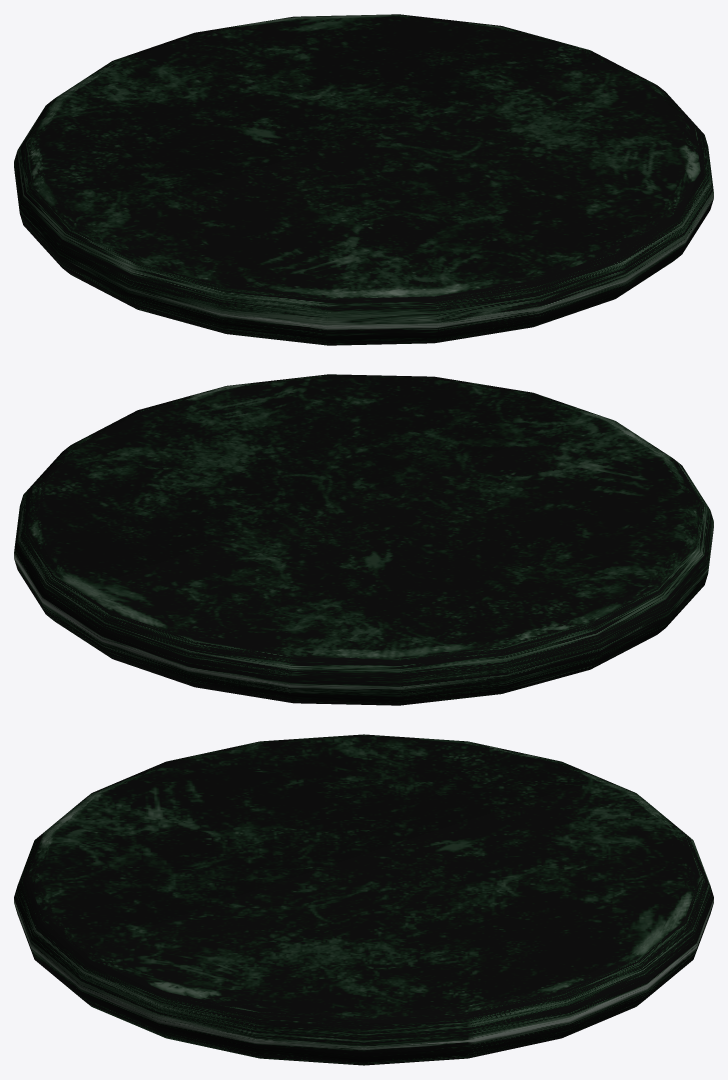
File: BoLiYuanKuai_Green.fbx
3 views of the same model, one above another, from view 1: azimuth 30°, elevation 25°; view 2: azimuth 150°, elevation 25°; view 3: azimuth 270°, elevation 25° (orthographic).
Visible parts, largest first — view 1: BoLiYuanKuai_Green; view 2: BoLiYuanKuai_Green; view 3: BoLiYuanKuai_Green.
Boxes of the visible parts, <box> form: BoLiYuanKuai_Green: <box>14,14,713,345</box>; BoLiYuanKuai_Green: <box>14,374,713,705</box>; BoLiYuanKuai_Green: <box>14,734,713,1065</box>.
Bounding box in the file's own units: 12 × 1 × 12.
Materials: 1 (1 with a texture image).
